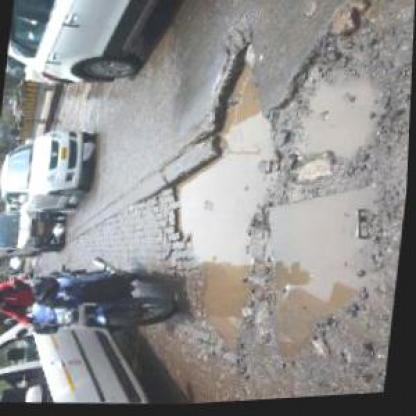pothole: (148, 31, 283, 352), (247, 178, 385, 370), (268, 47, 390, 176)
